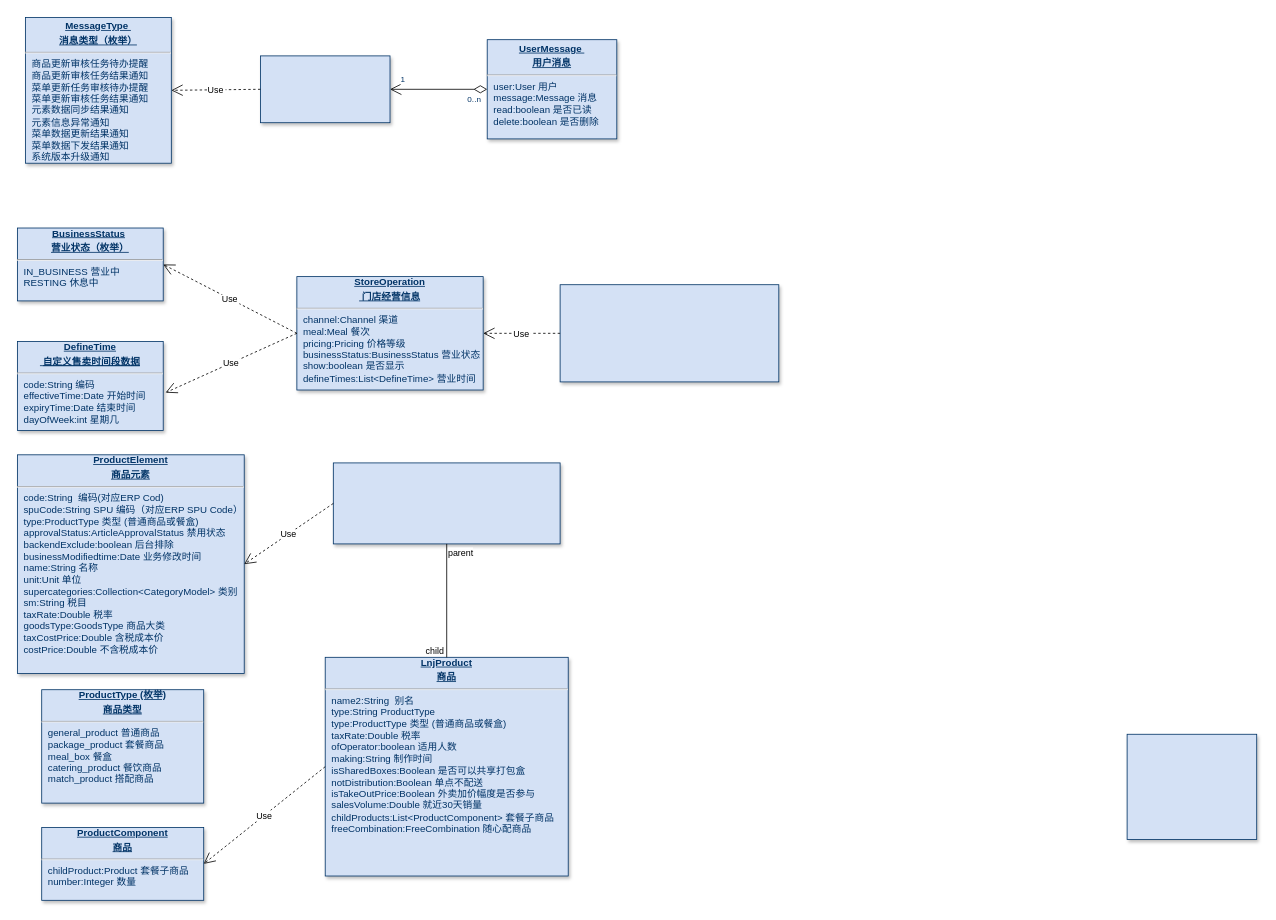
This 1276x920 diagram has some shape labels left out. Here are the shapes that lost their labels. From the top down, the centre of each, then its label:
(325,90): Message 消息 type:MessageType 类型 content:String 内容
(670,334): PointOfService 门店 storeOpeation:List<StoreOPeation> 门店经营信息 close:boolean 闭店
(447,504): Product 商品 productElement:ProductElement 元素
(1192,787): TimeCategory IdTimeCategory Name Description CreatedAt UpdatedAt Enabled
